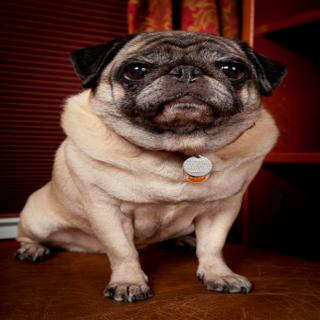dog: (59, 30, 287, 133)
nose: (168, 58, 209, 84)
